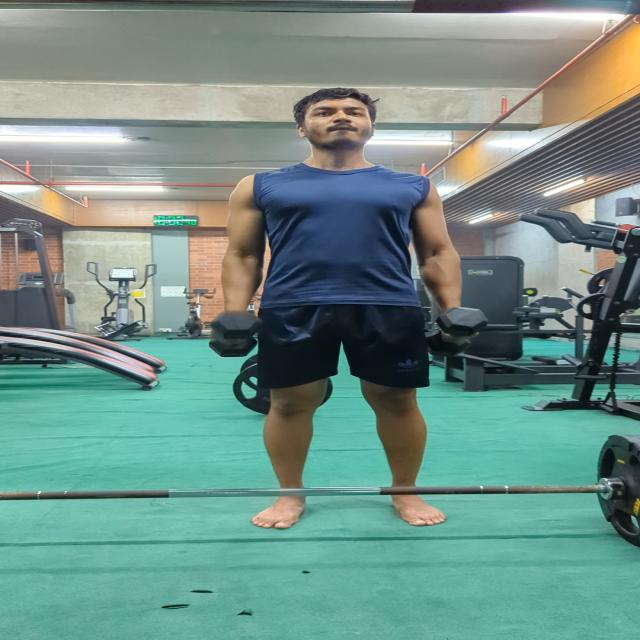Normal_DumbbellBicepCurls: (189, 86, 506, 532)
